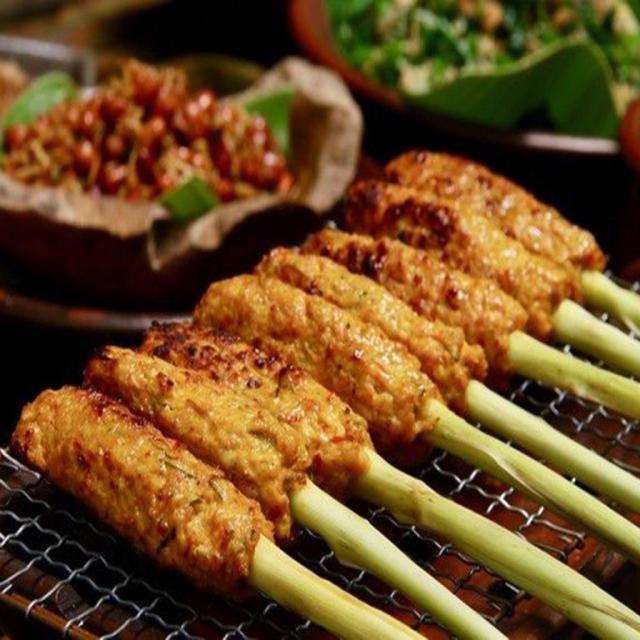Sate: (0, 111, 627, 608)
